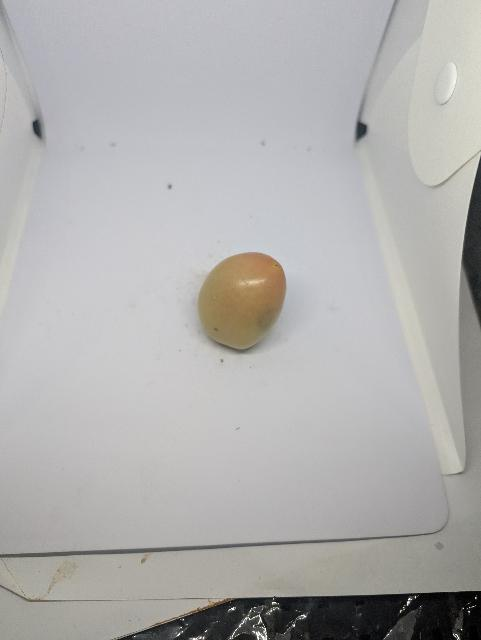breaker: (195, 248, 291, 353)
